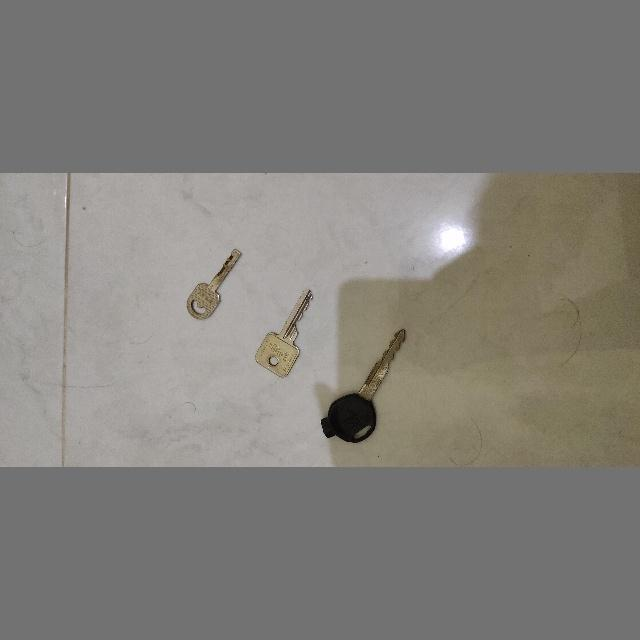Keys: (318, 326, 410, 446), (248, 286, 316, 380), (183, 246, 243, 322)
